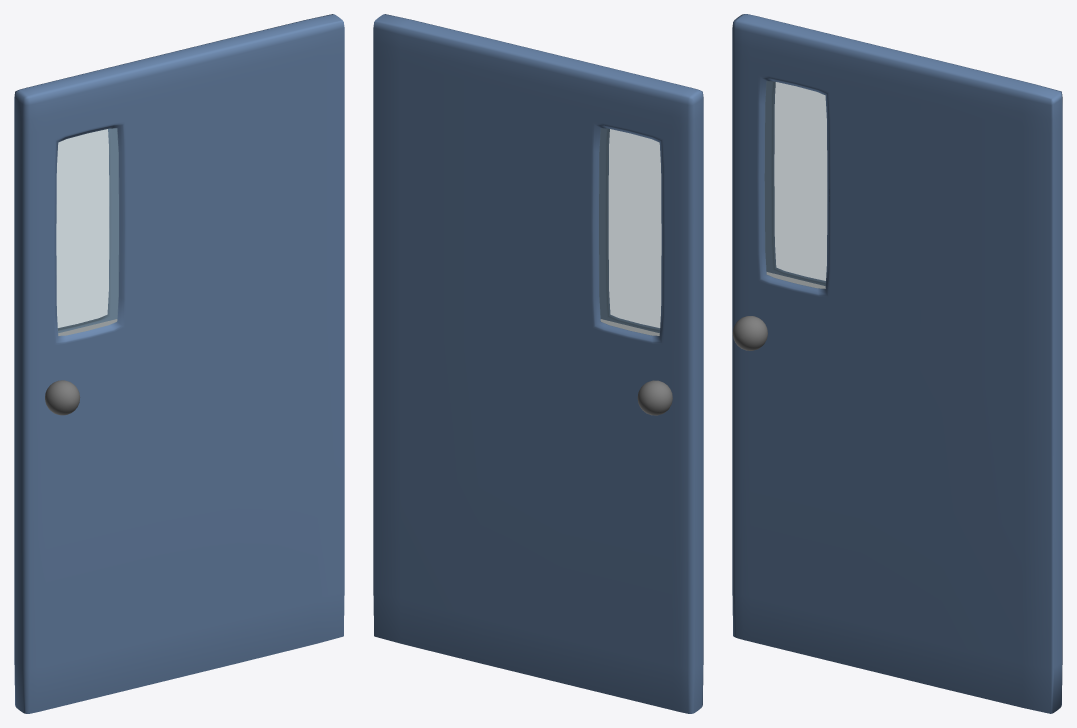
Rendered from door_done.fbx.
The picture shows the model from 3 angles, left to right: view 1: azimuth 30°, elevation 25°; view 2: azimuth 150°, elevation 25°; view 3: azimuth 330°, elevation 25°; orthographic projection.
Visible parts, largest first — view 1: group4_pCube1; view 2: group4_pCube1; view 3: group4_pCube1.
Boxes of the visible parts, x1,y1,x2,y2 form: group4_pCube1: (14, 14, 344, 713); group4_pCube1: (373, 14, 703, 713); group4_pCube1: (732, 14, 1062, 713).
Size of the model in its own units: 1.99 by 3.65 by 0.5136.
